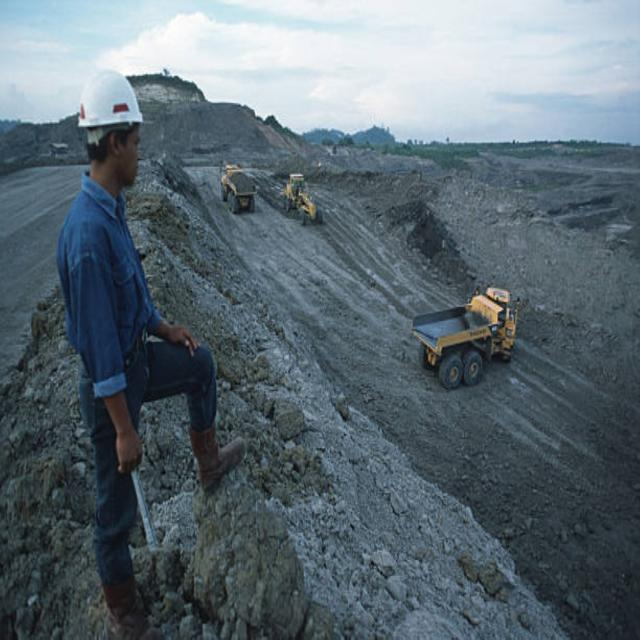buldozerpayloadergrader: (280, 159, 329, 249)
dump_truck: (399, 280, 517, 391), (212, 153, 260, 225)
